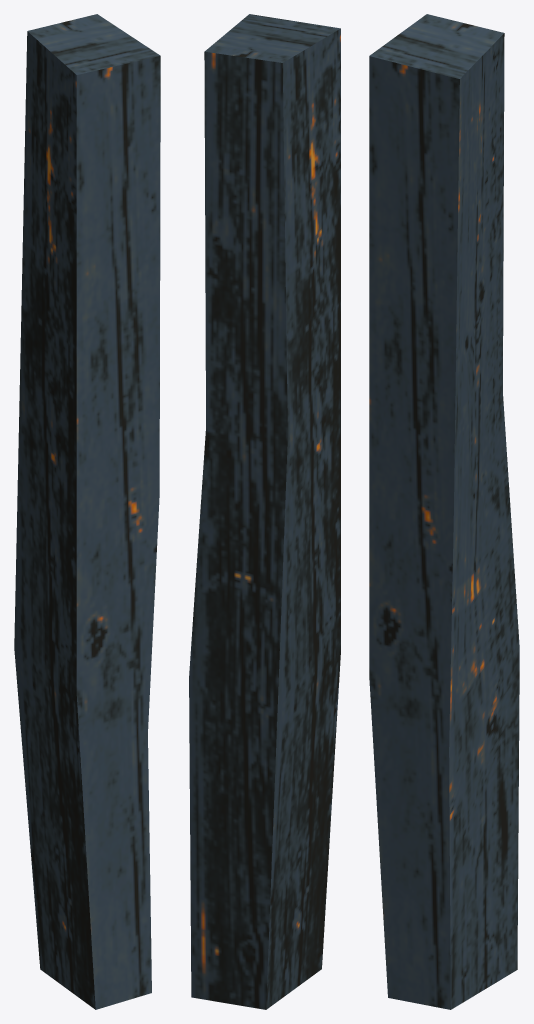
The model's file is post_2.fbx.
3 renders of one model, left to right at view 1: azimuth 30°, elevation 25°; view 2: azimuth 150°, elevation 25°; view 3: azimuth 330°, elevation 25°, orthographic.
Parts seen in each view (by area): view 1: post_2; view 2: post_2; view 3: post_2.
Boxes of the visible parts, bbox=[...] form: post_2: bbox=[14, 14, 160, 1009]; post_2: bbox=[189, 14, 340, 1009]; post_2: bbox=[369, 14, 519, 1009].
Size of the model in its own units: 0.00177 by 0.0178 by 0.00218.
